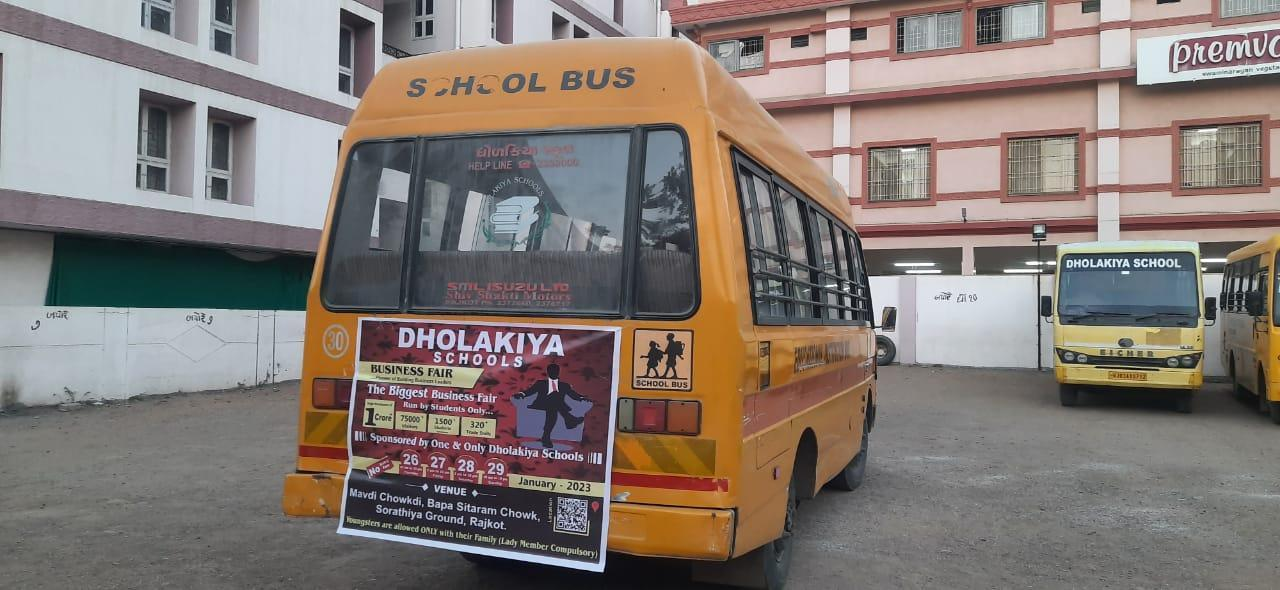Bus: (290, 29, 904, 583), (1043, 218, 1217, 424), (1220, 244, 1280, 416)
